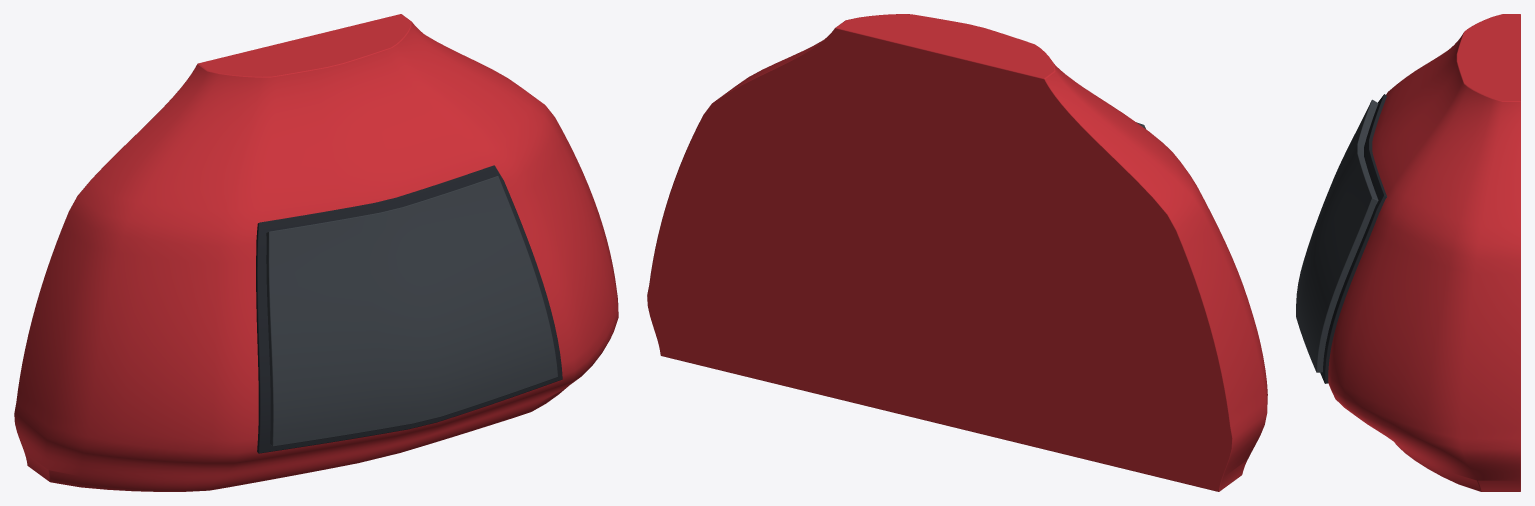
The model's file is FootBack_Set01_Ironclad.fbx.
3 renders of one model, left to right at view 1: azimuth 30°, elevation 25°; view 2: azimuth 150°, elevation 25°; view 3: azimuth 270°, elevation 25°, orthographic. The views are drawn at different scales.
Parts seen in each view (by area): view 1: FootBack_Set01_Ironclad; view 2: FootBack_Set01_Ironclad; view 3: FootBack_Set01_Ironclad.
Boxes of the visible parts, x1,y1,x2,y2 form: FootBack_Set01_Ironclad: [14, 14, 618, 491]; FootBack_Set01_Ironclad: [647, 14, 1267, 491]; FootBack_Set01_Ironclad: [1296, 14, 1520, 491].
Bounding box in the file's own units: 0.463 × 0.28 × 0.1795.
